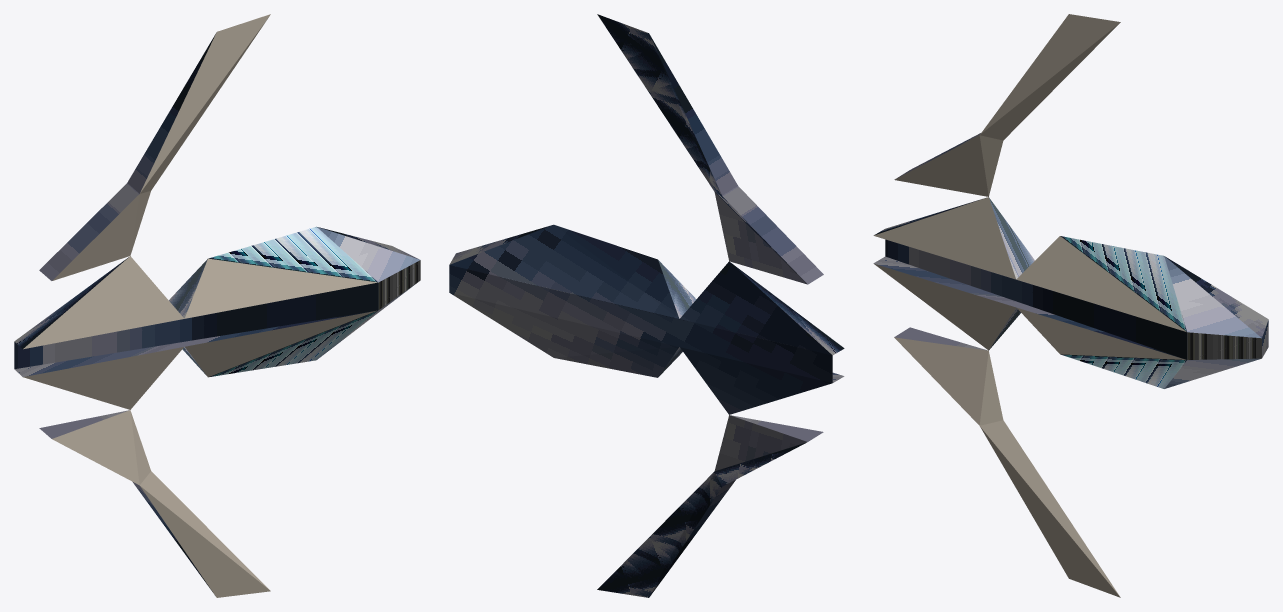
The model's file is 1a-crossbow-tp.glb.
3 views of the same model, side by side, from view 1: azimuth 30°, elevation 25°; view 2: azimuth 150°, elevation 25°; view 3: azimuth 330°, elevation 25° (orthographic).
Parts seen in each view (by area): view 1: gun; view 2: gun; view 3: gun.
Part boxes in pixels (x1,y1,x2,y2): gun: (14, 14, 420, 597); gun: (449, 14, 844, 597); gun: (873, 14, 1268, 597).
Size of the model in its own units: 267 by 374 by 39.66.
5 materials, 5 textured.
